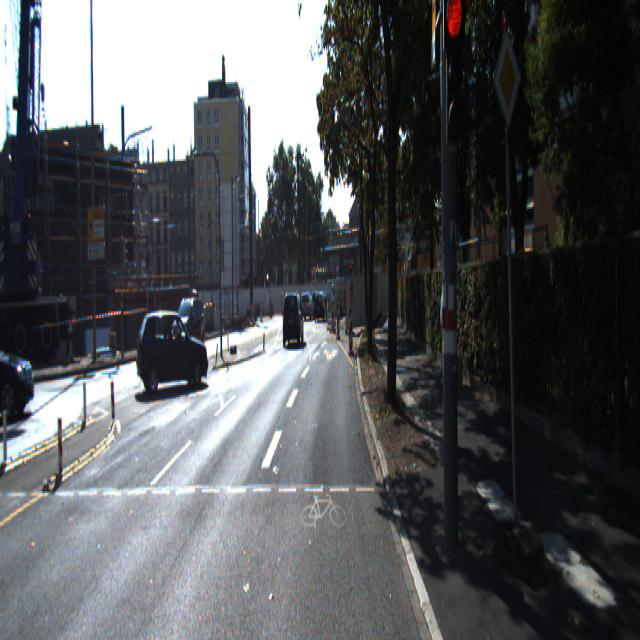Car: (135, 306, 210, 399), (0, 312, 42, 417), (170, 292, 205, 350), (282, 286, 303, 344), (286, 292, 299, 328)
